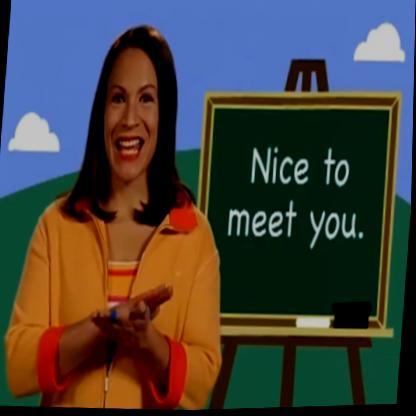NiceToMeetYou: (82, 250, 180, 374)
